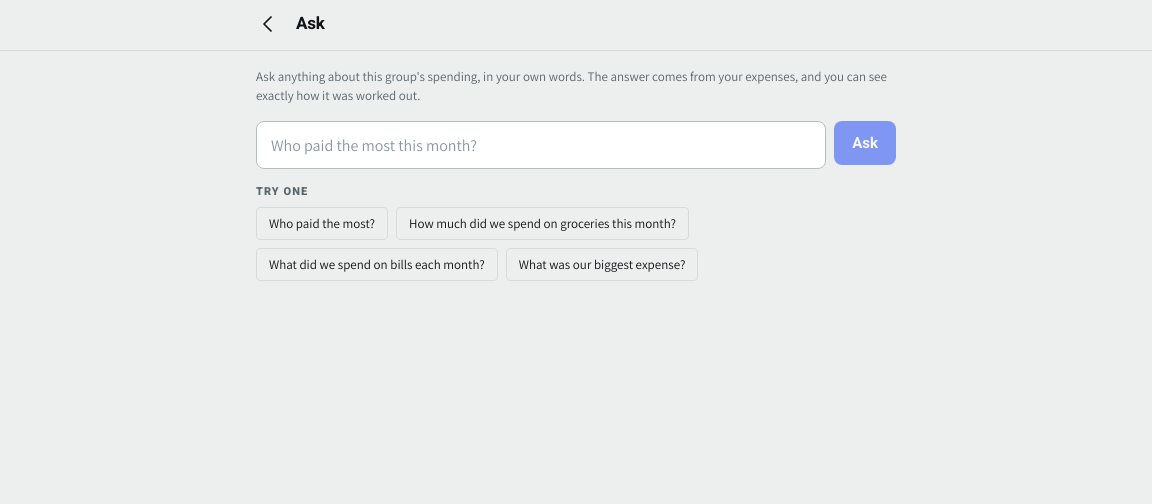
Test: asking a question (9.9) › shows the query that produced the answer, on request
Click the button "Who paid the most?" at (322,224), box [256,207,388,240]
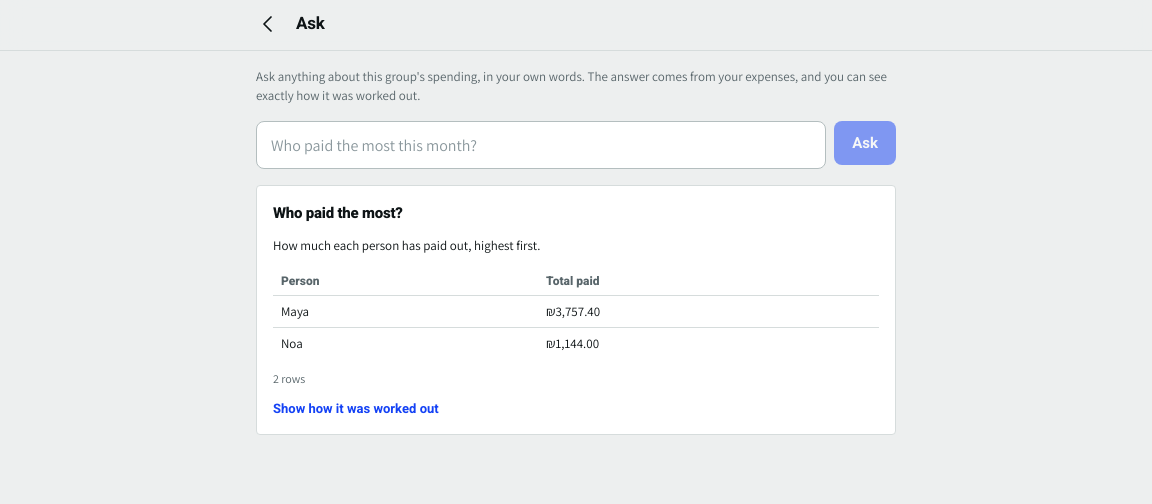
Click the button "Show how it was worked out" at (356,408), box [273,399,439,418]
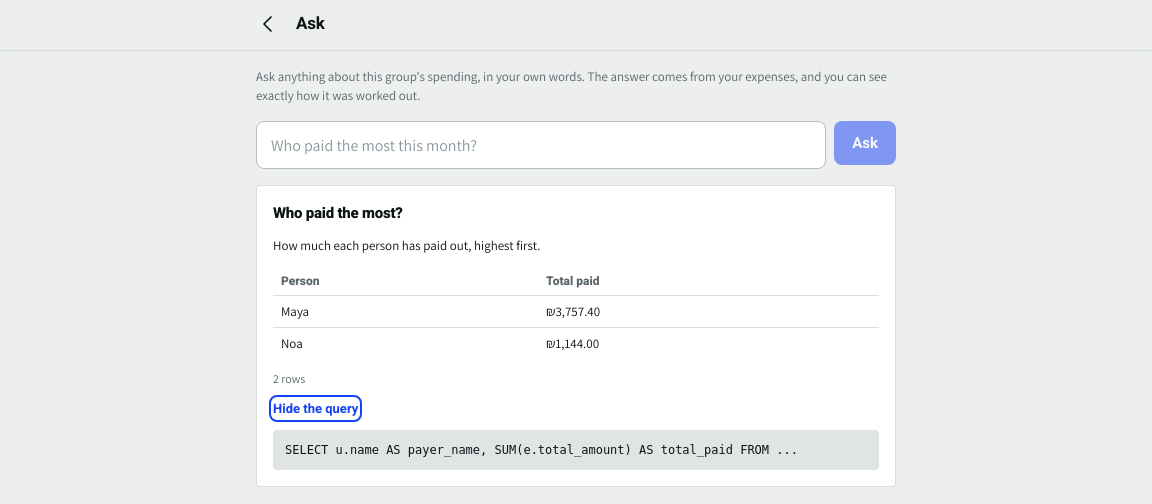
Result: the text "SELECT u.name AS payer_name" is shown at [285,443,798,457]
